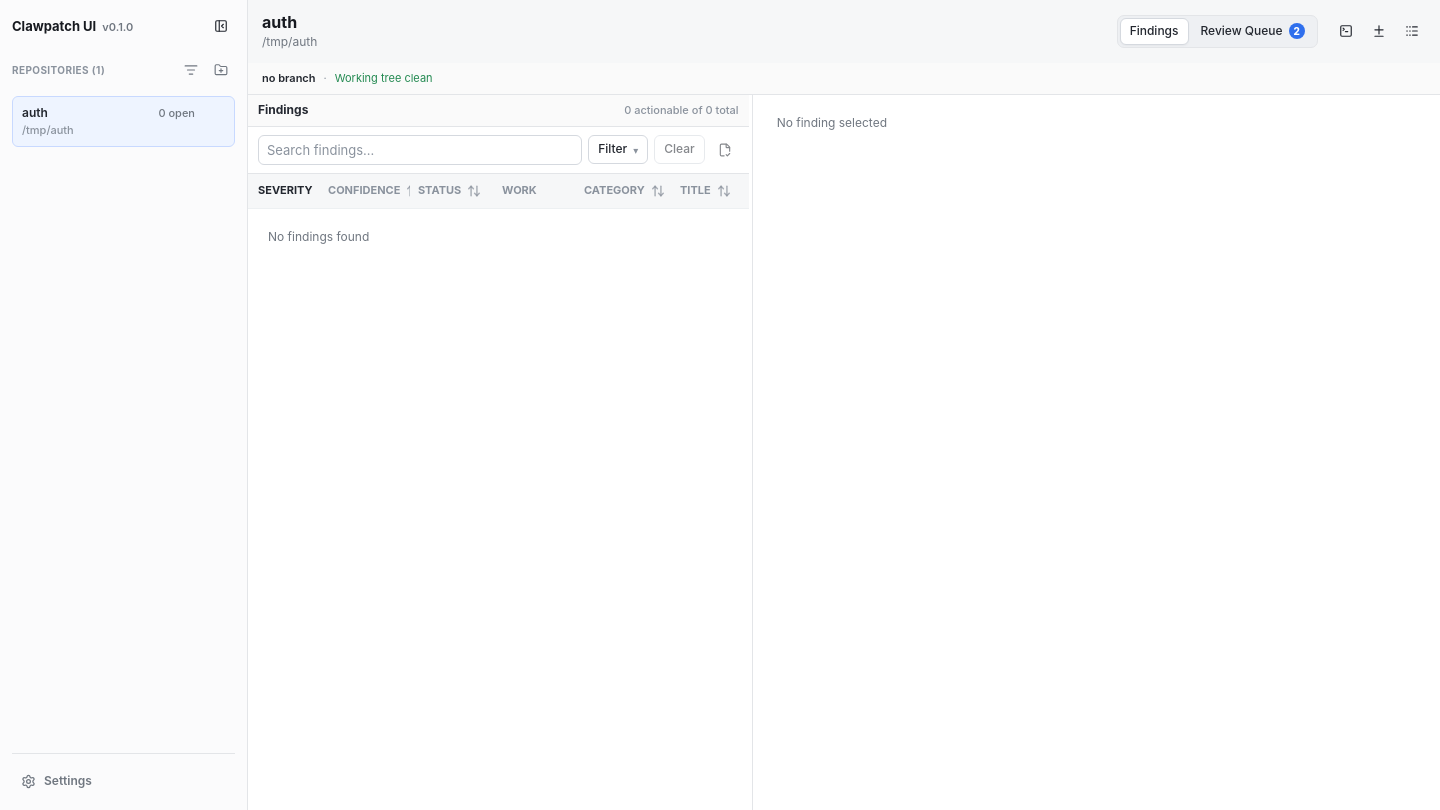
Test: ClawpatchApp header actions › saves the newly added repository as the last selected repository
The width and height of the screenshot is (1440, 810).
Check: the heading "auth" is shown, box [262,12,297,32]
Click the button named "Add repository": {"x": 221, "y": 70} [207,56,235,84]
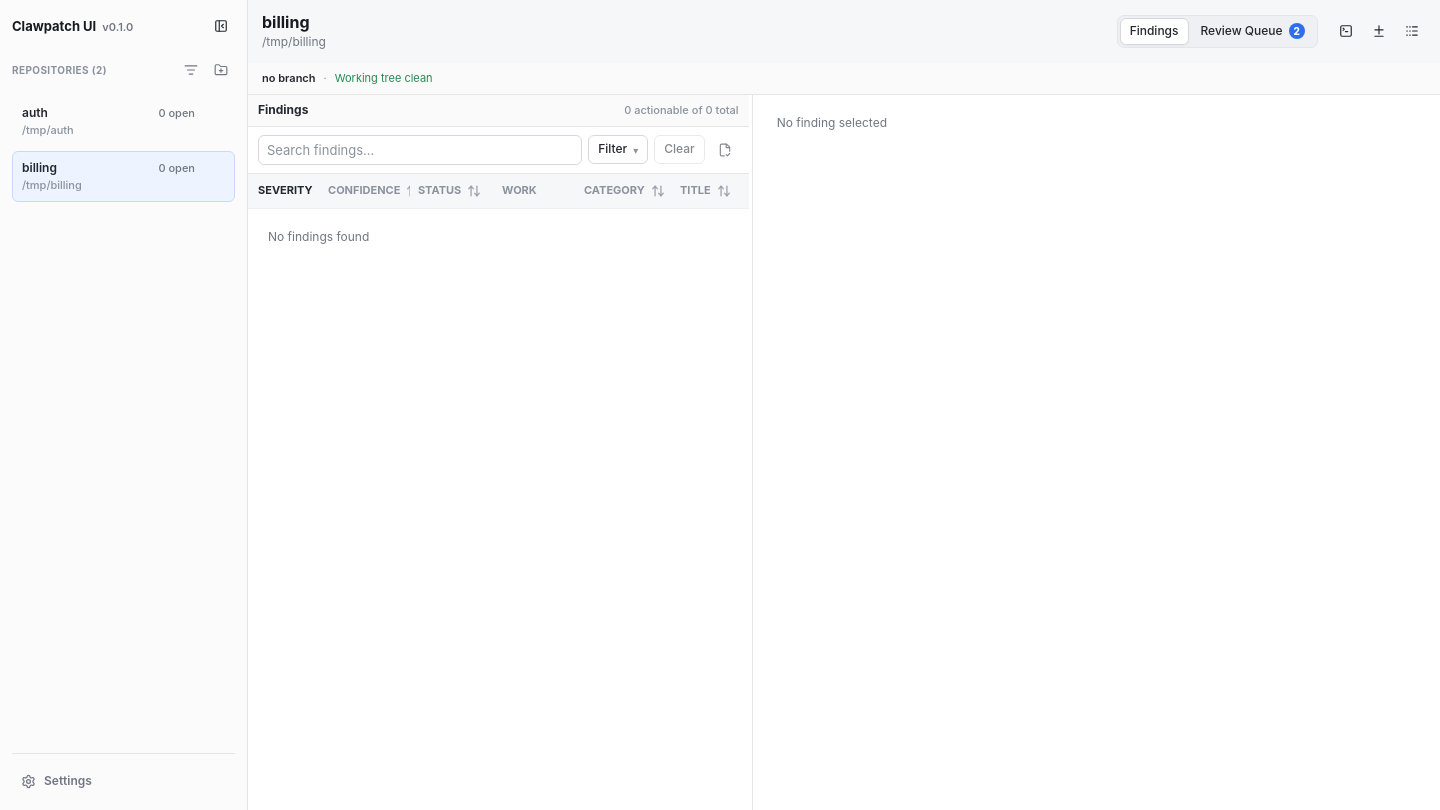
Check: the heading "billing" is shown, box [262,12,310,32]
